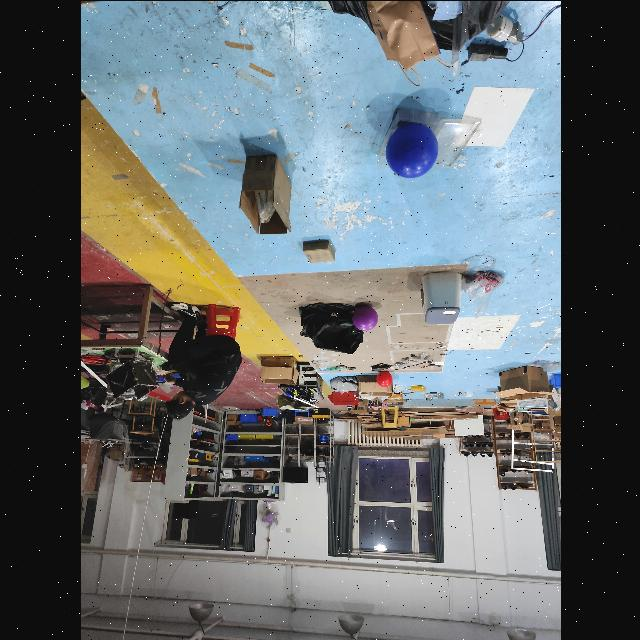B: (384, 120, 436, 178)
P: (351, 304, 377, 330)
R: (375, 370, 391, 386)
